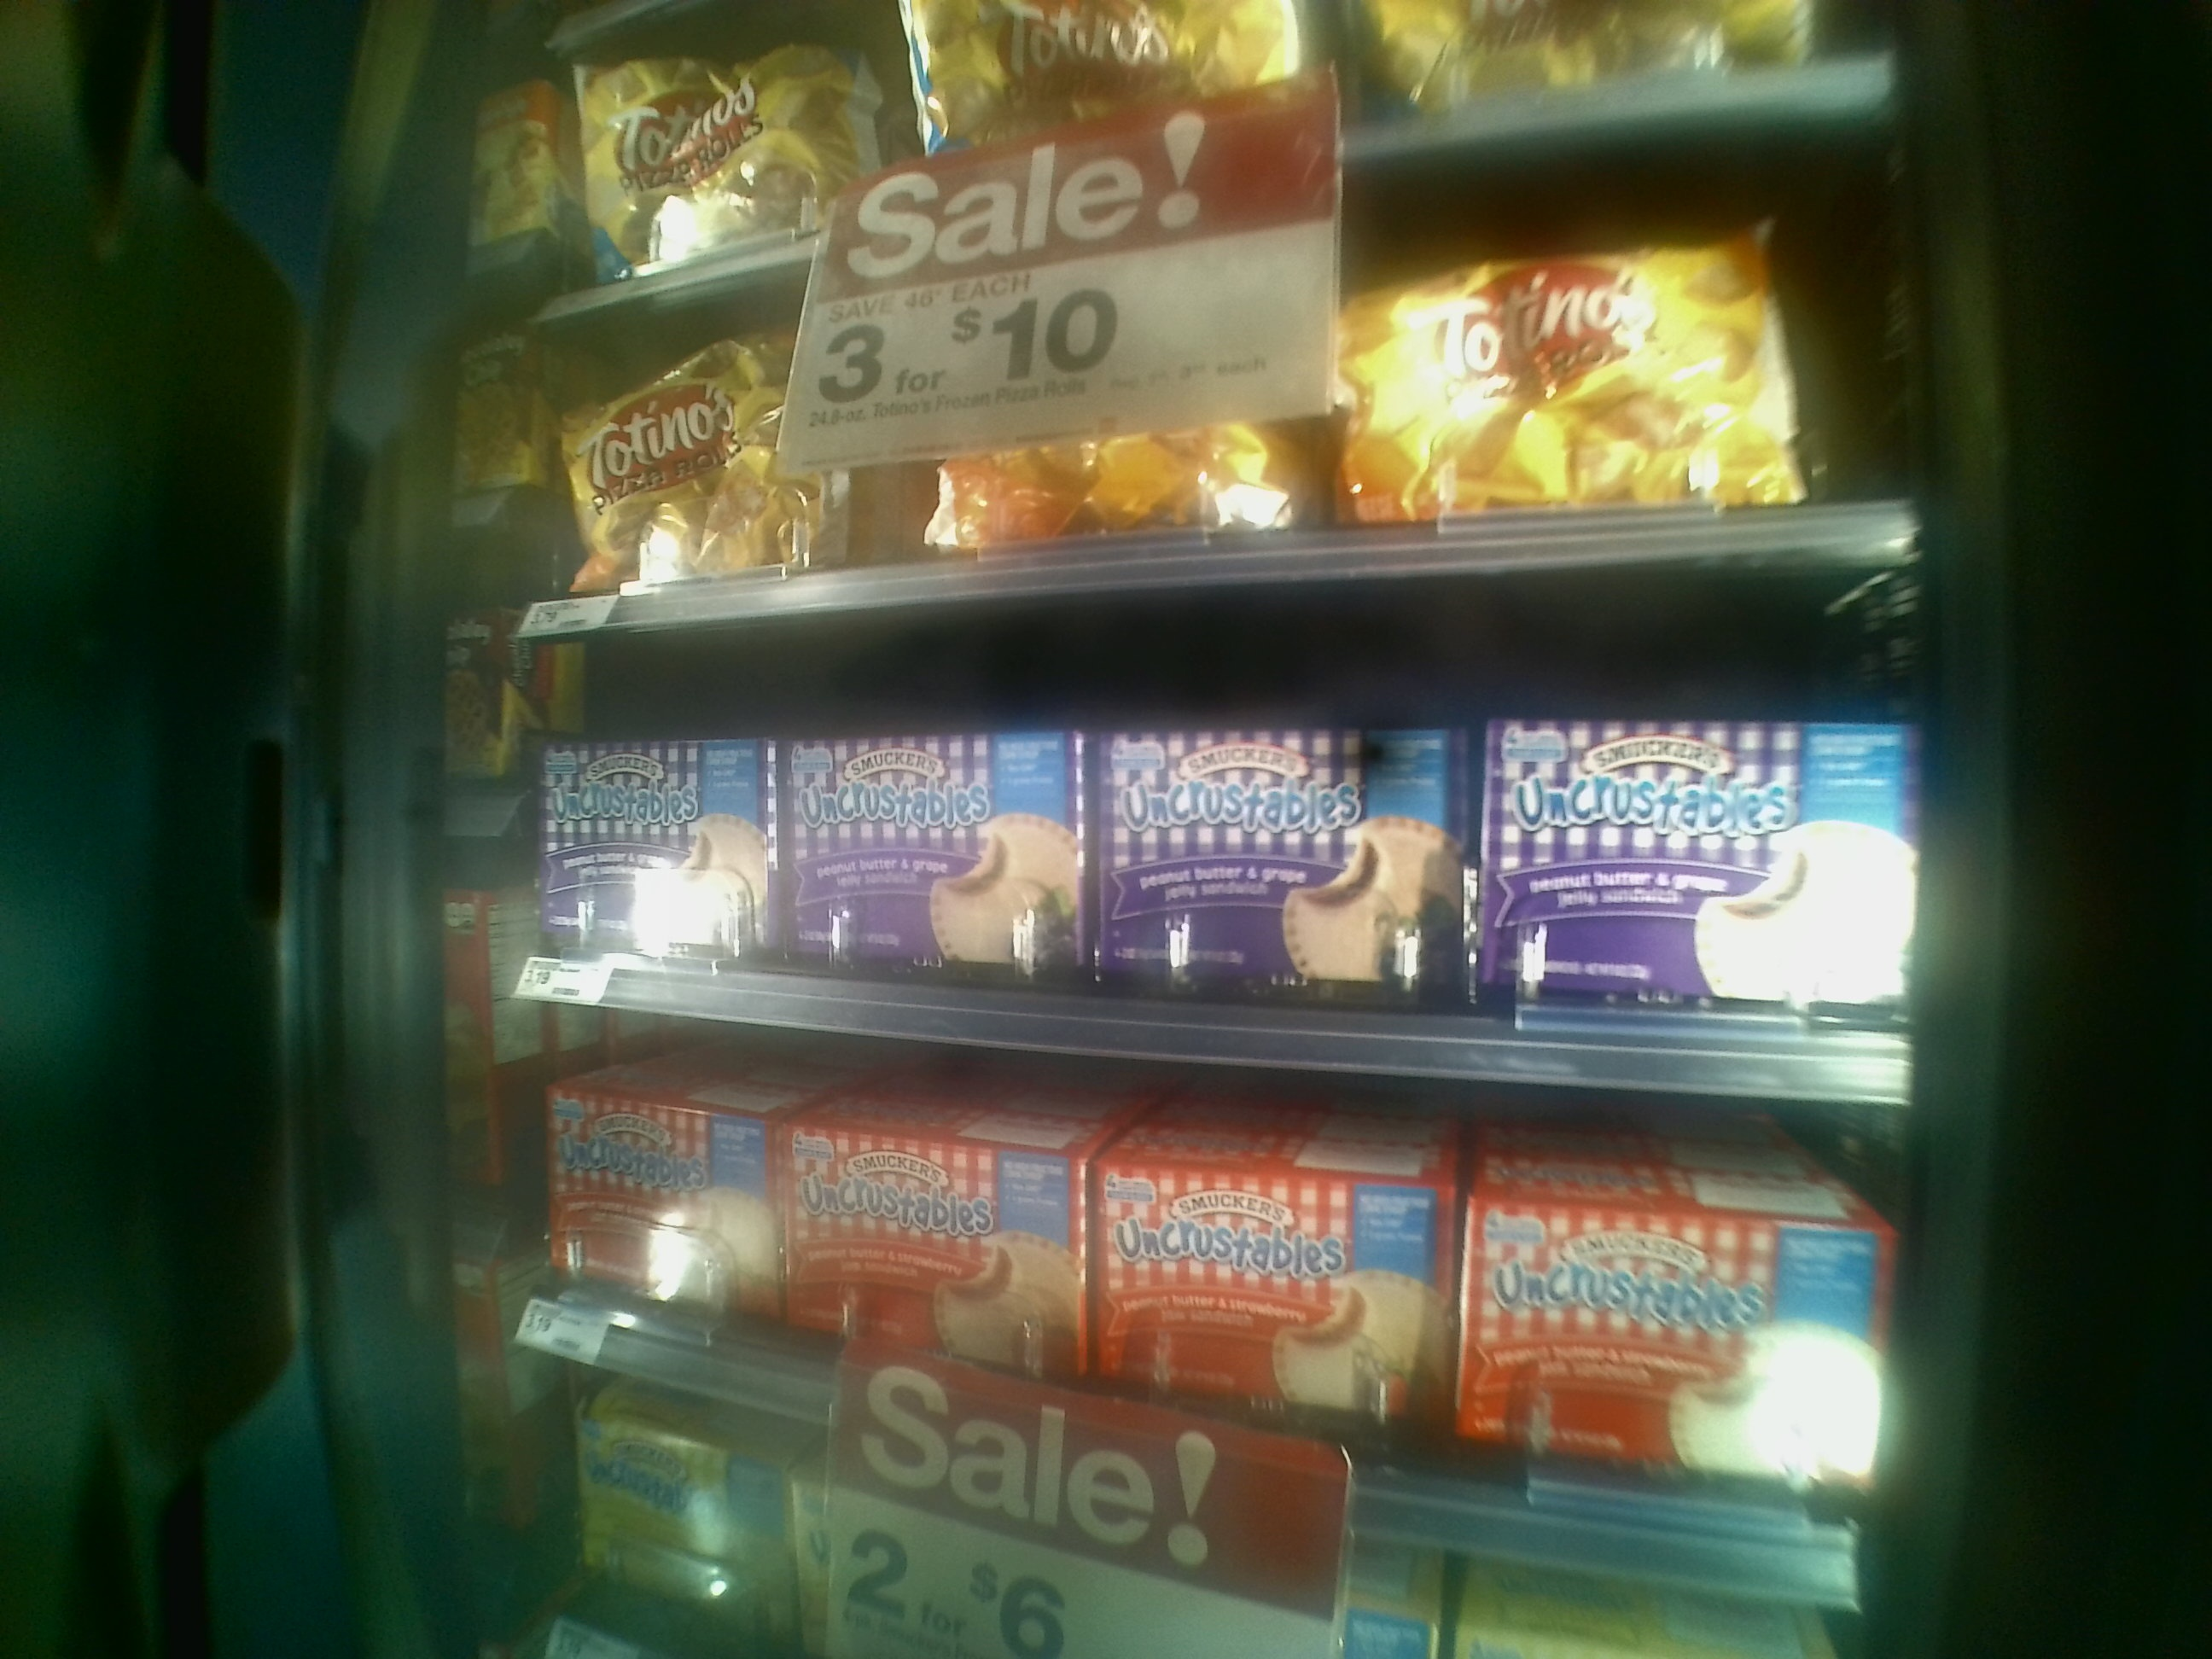shelf: (542, 1039, 1881, 1603), (531, 627, 1923, 1112), (531, 240, 1907, 568)
